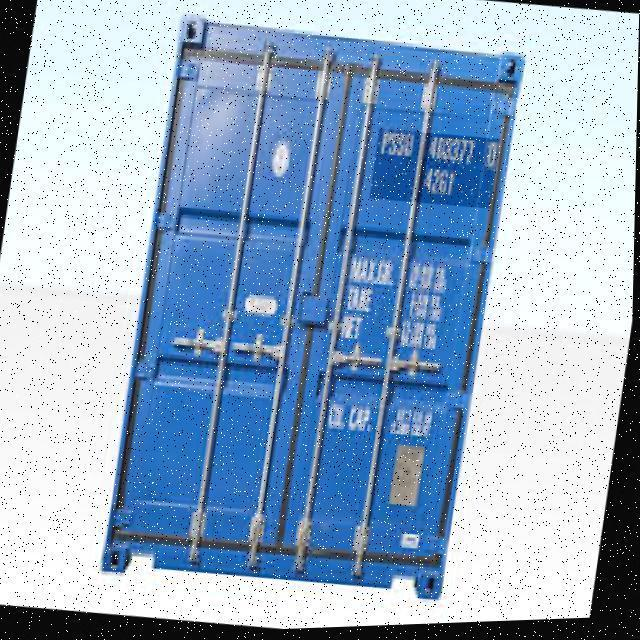container_number_h: (370, 128, 501, 216)
